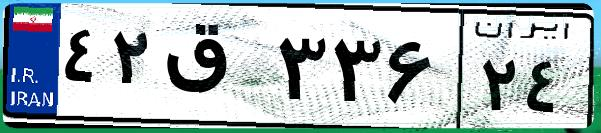2: (475, 38, 525, 113), (110, 28, 158, 98)
3: (270, 28, 330, 110), (330, 28, 385, 110)
4: (57, 26, 110, 100), (525, 38, 570, 115)
6: (385, 28, 445, 110)
ق: (158, 20, 270, 120)
